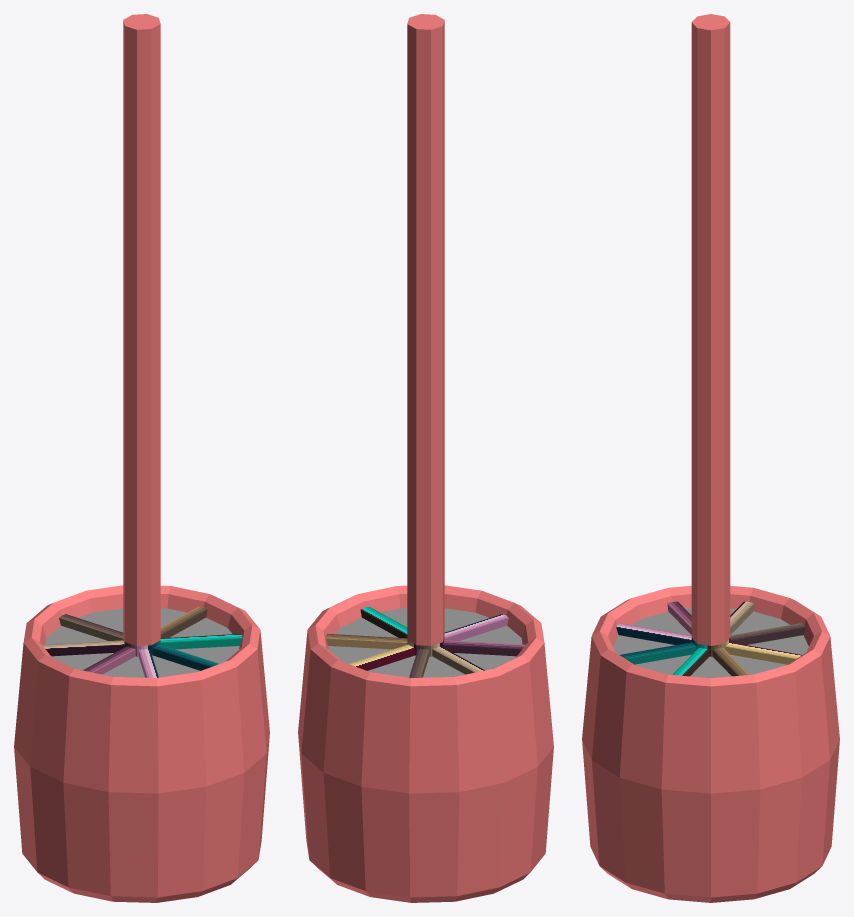
The model's file is Prop_ToiletBrush_01.fbx.
The picture shows the model from 3 angles, left to right: view 1: azimuth 30°, elevation 25°; view 2: azimuth 150°, elevation 25°; view 3: azimuth 270°, elevation 25°; orthographic projection.
Parts seen in each view (by area): view 1: Prop_ToiletBrush_01; view 2: Prop_ToiletBrush_01; view 3: Prop_ToiletBrush_01.
Part boxes in pixels (left/top/right/bottom): Prop_ToiletBrush_01: left=14, top=14, right=269, bottom=902; Prop_ToiletBrush_01: left=298, top=14, right=553, bottom=902; Prop_ToiletBrush_01: left=582, top=14, right=839, bottom=902.
Size of the model in its own units: 18.49 by 65.9 by 18.49.
